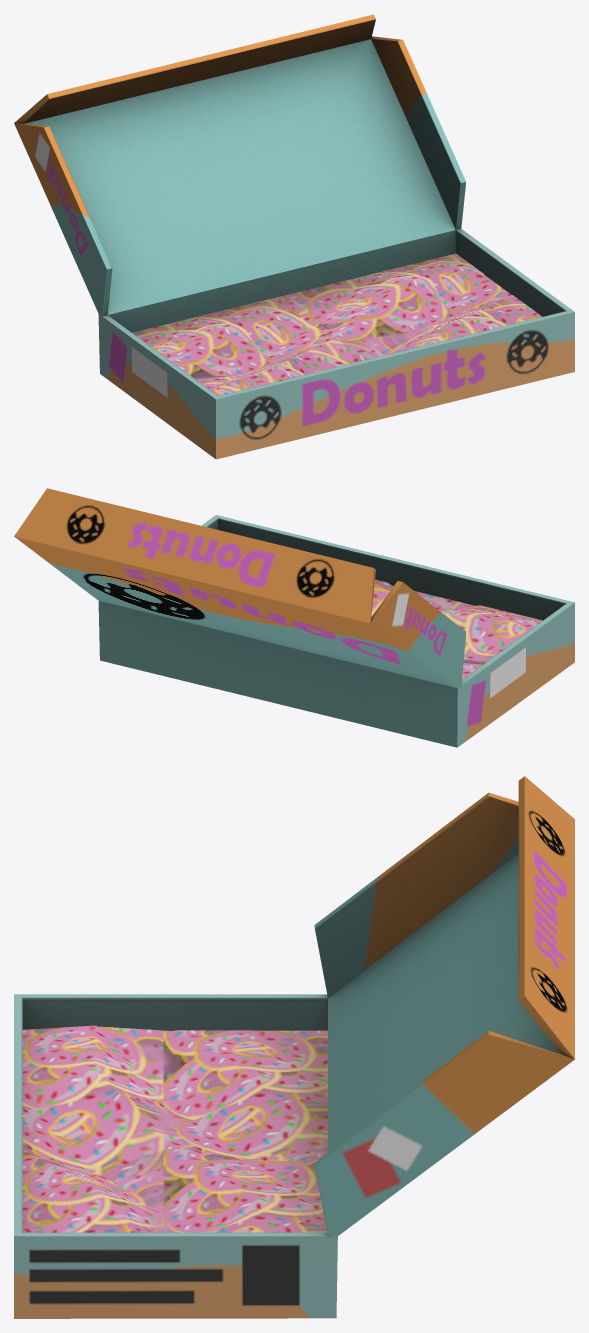
The model's file is donutbox.FBX.
3 renders of one model, top to bottom at view 1: azimuth 30°, elevation 25°; view 2: azimuth 150°, elevation 25°; view 3: azimuth 270°, elevation 25°, orthographic. The views are drawn at different scales.
Visible parts, largest first — view 1: Box001; view 2: Box001; view 3: Box001.
Boxes of the visible parts, x1,y1,x2,y2 form: Box001: (14, 14, 574, 459); Box001: (14, 488, 574, 747); Box001: (14, 776, 574, 1318).
Size of the model in its own units: 44.38 by 26.67 by 43.48.
